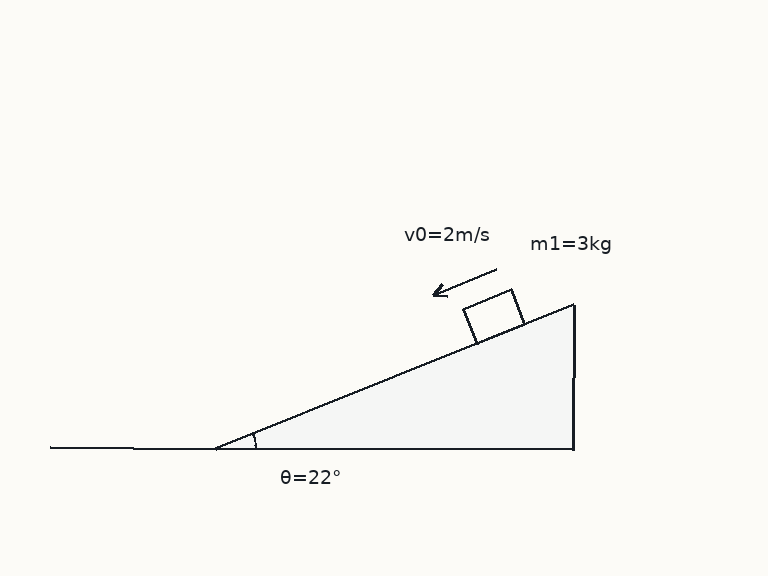block: (461, 288, 526, 346)
ramp: (214, 303, 575, 451)
